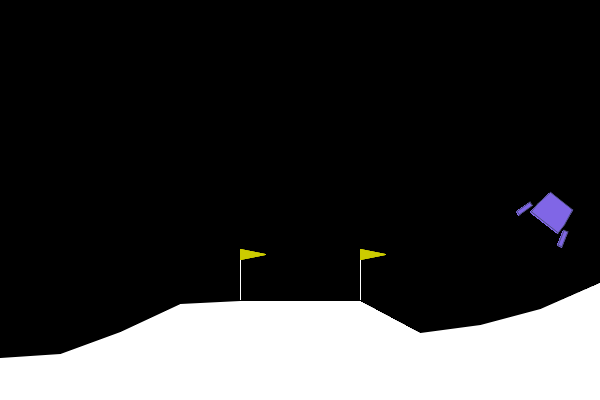lander: (514, 181, 586, 250)
